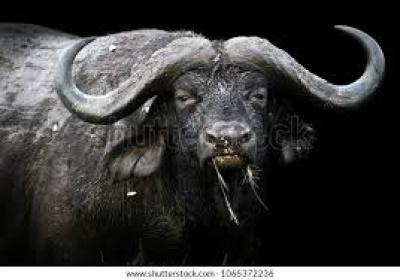buffalo: (41, 26, 387, 267)
